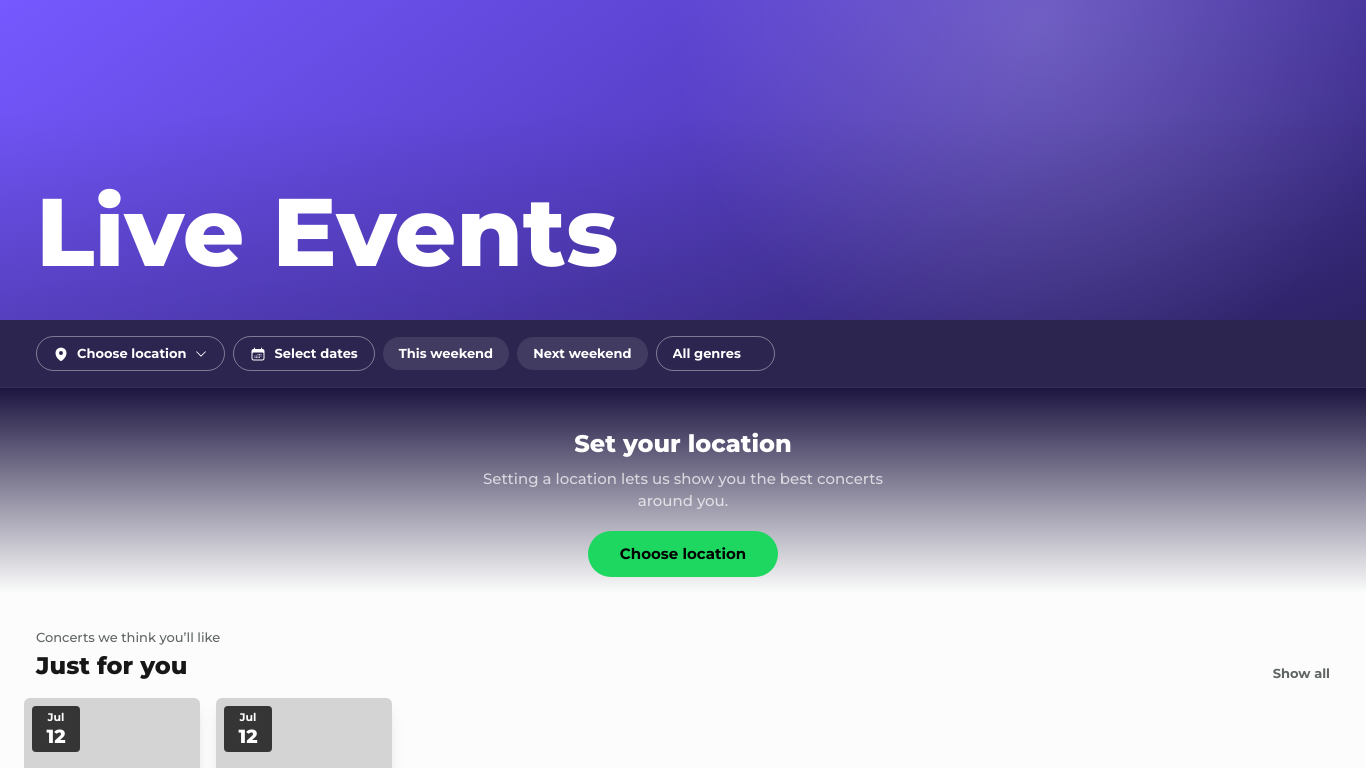
Test: LiveEventsPage › prompts for a location, then filters the feed by the chosen city and genre
Expected: the heading "Set your location" is shown, 574,429 -> 792,458
Click the button "Choose location" below "Set your location" at (683, 554), box 588,531 -> 778,577
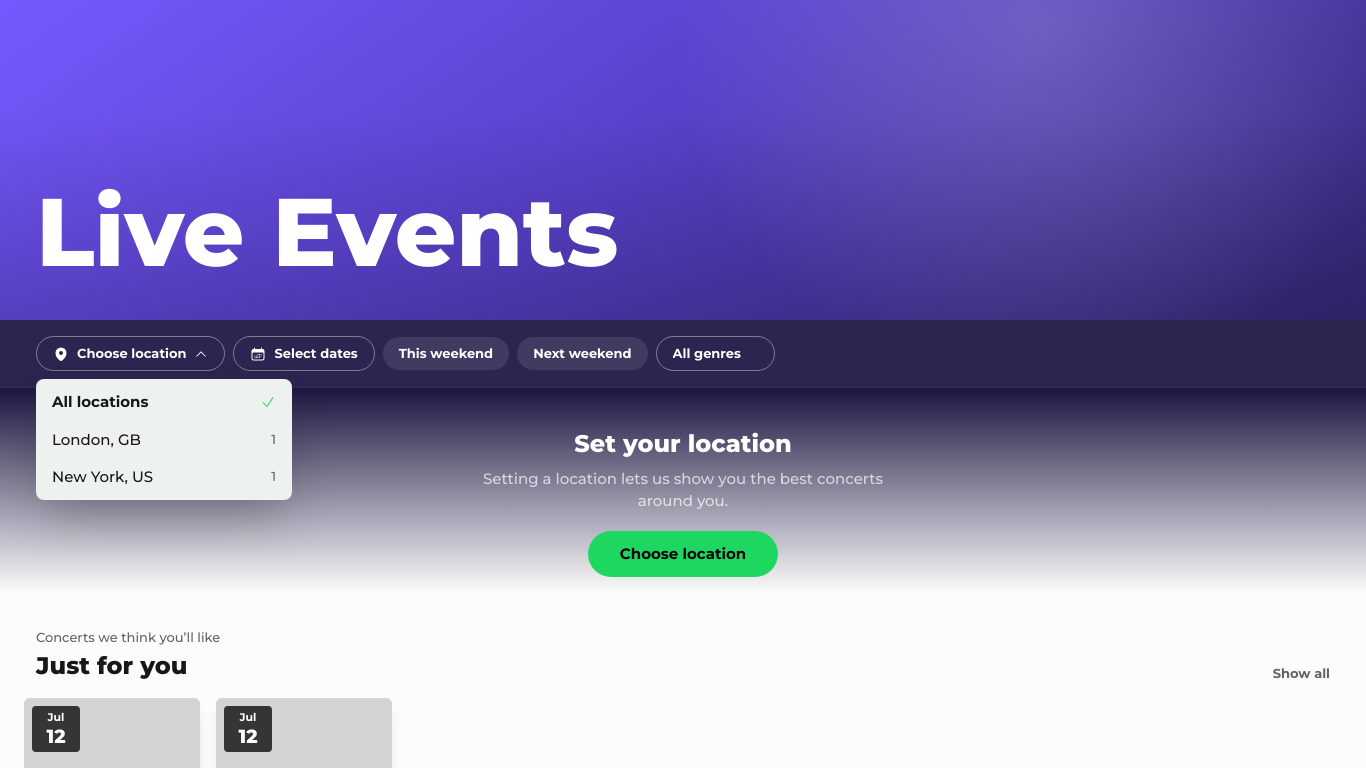
Click the option "London, GB 1" at (164, 440), box 40,421 -> 288,458
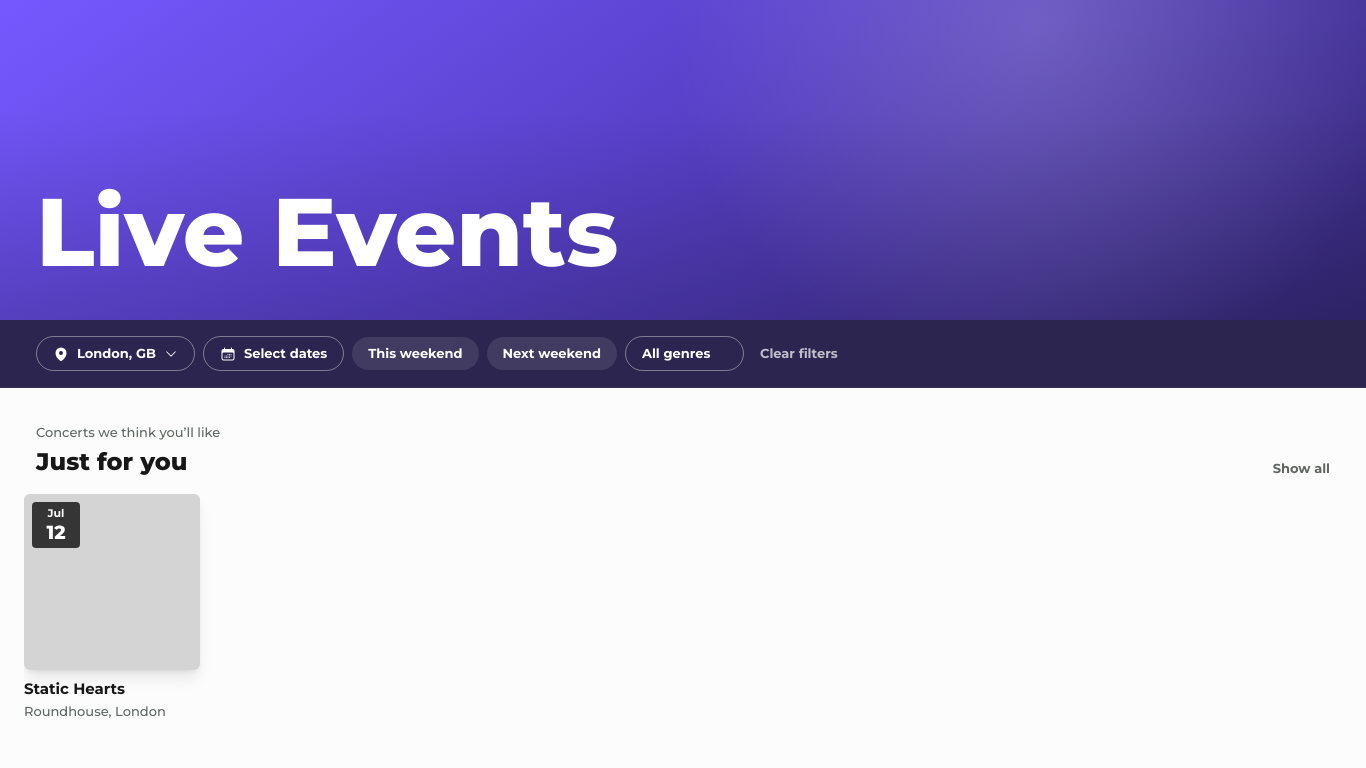
Expected: the text "Static Hearts" is shown, 24,679 -> 125,698
Result: the heading "Set your location" is gone
Result: no links "Nova Bloom" are shown
Select "pop" in the dropdown named "Filter events by genre" at (684, 354), box 642,345 -> 727,362
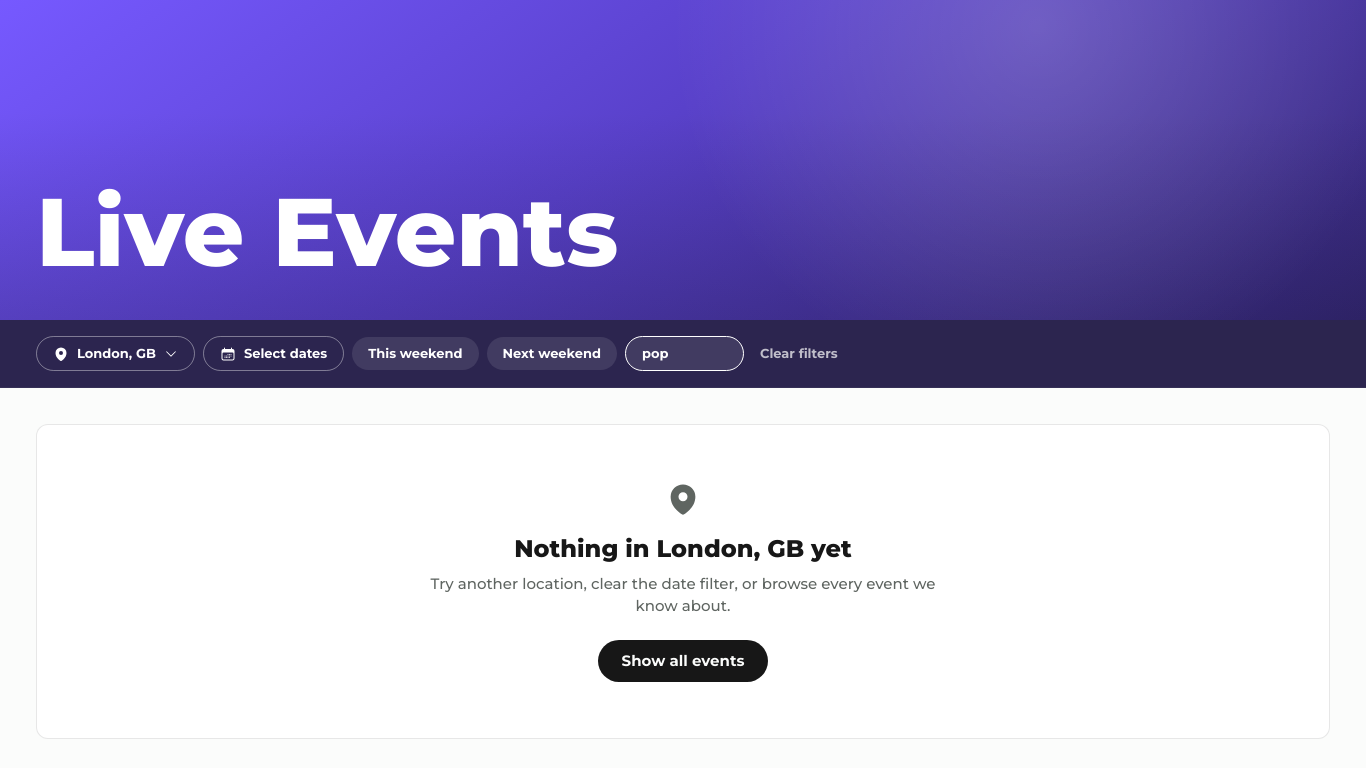
Result: the heading "Nothing in London, GB yet" is shown at 514,534 -> 852,563
Result: the button "Show all events" is shown at 598,640 -> 768,682
